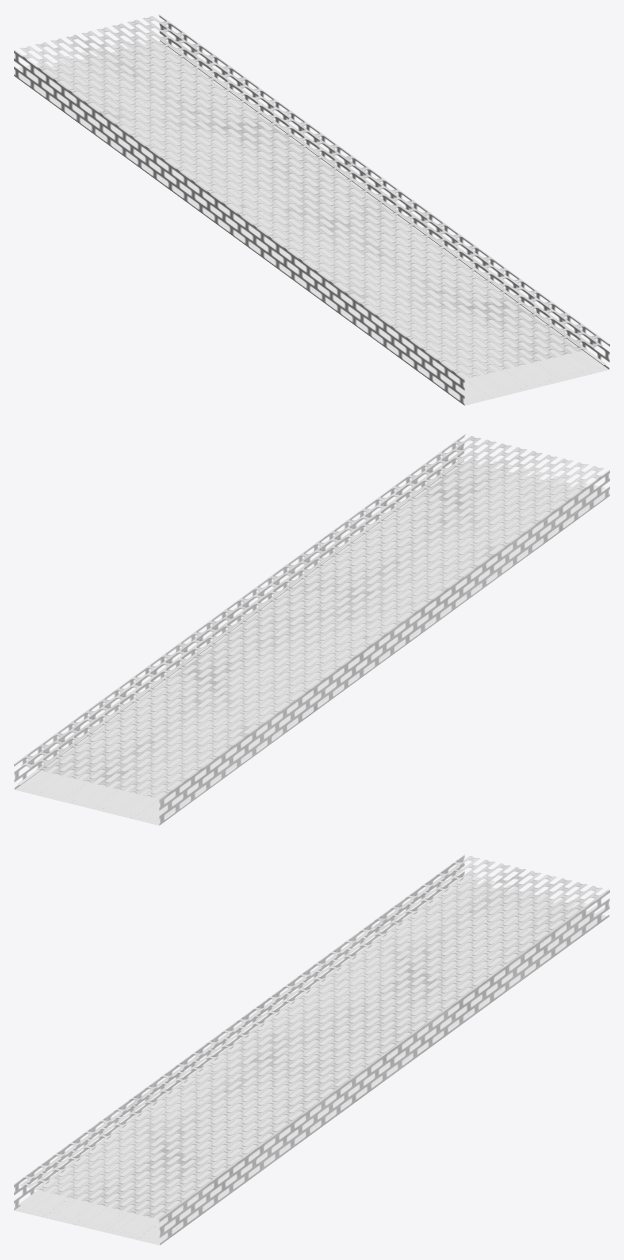
The model's file is cabletray.glb.
The picture shows the model from 3 angles, top to bottom: view 1: azimuth 30°, elevation 25°; view 2: azimuth 150°, elevation 25°; view 3: azimuth 330°, elevation 25°; orthographic projection.
Visible parts, largest first — view 1: CableTray; view 2: CableTray; view 3: CableTray.
Part boxes in pixels (x1=…): CableTray: x1=14, y1=14, x2=609, y2=405; CableTray: x1=14, y1=434, x2=609, y2=825; CableTray: x1=14, y1=855, x2=609, y2=1245.
Bounding box in the file's own units: 0.9309 × 0.1606 × 5.
3 materials, 3 textured.
